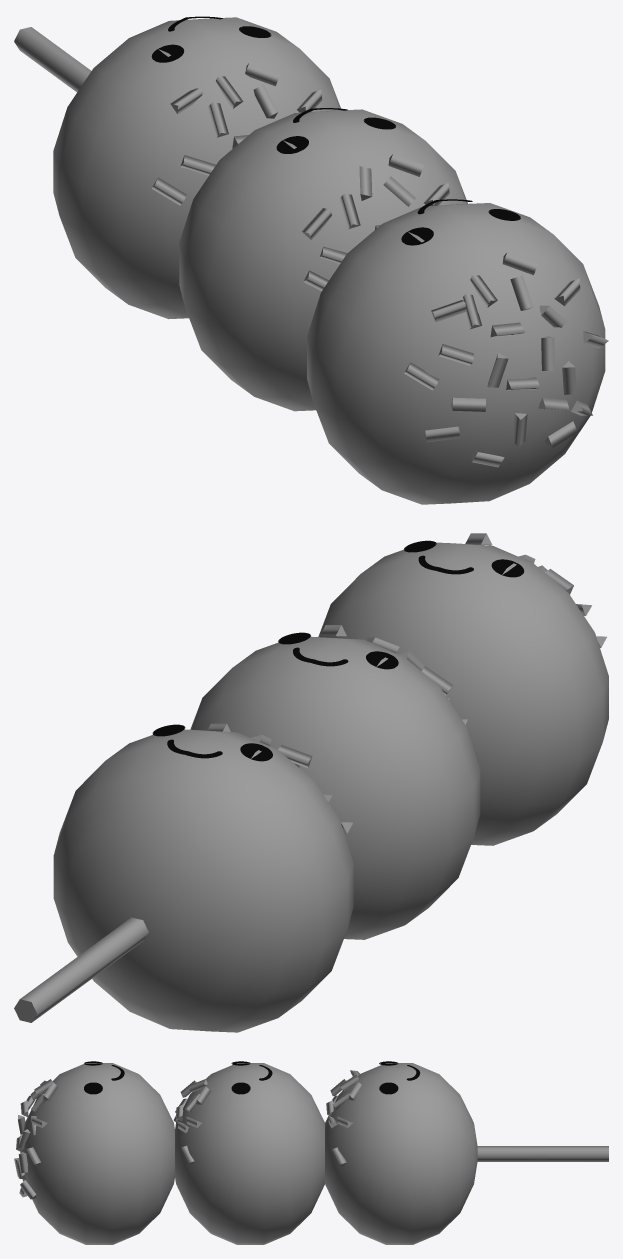
Rendered from dango_chocolate.fbx.
3 renders of one model, top to bottom at view 1: azimuth 30°, elevation 25°; view 2: azimuth 150°, elevation 25°; view 3: azimuth 270°, elevation 25°, orthographic. The views are drawn at different scales.
Visible parts, largest first — view 1: dango_chocolate; view 2: dango_chocolate; view 3: dango_chocolate.
Boxes of the visible parts, bbox=[...] form: dango_chocolate: bbox=[14, 16, 608, 504]; dango_chocolate: bbox=[14, 533, 608, 1032]; dango_chocolate: bbox=[14, 1061, 608, 1244].
Size of the model in its own units: 11.94 by 39.56 by 12.17.
